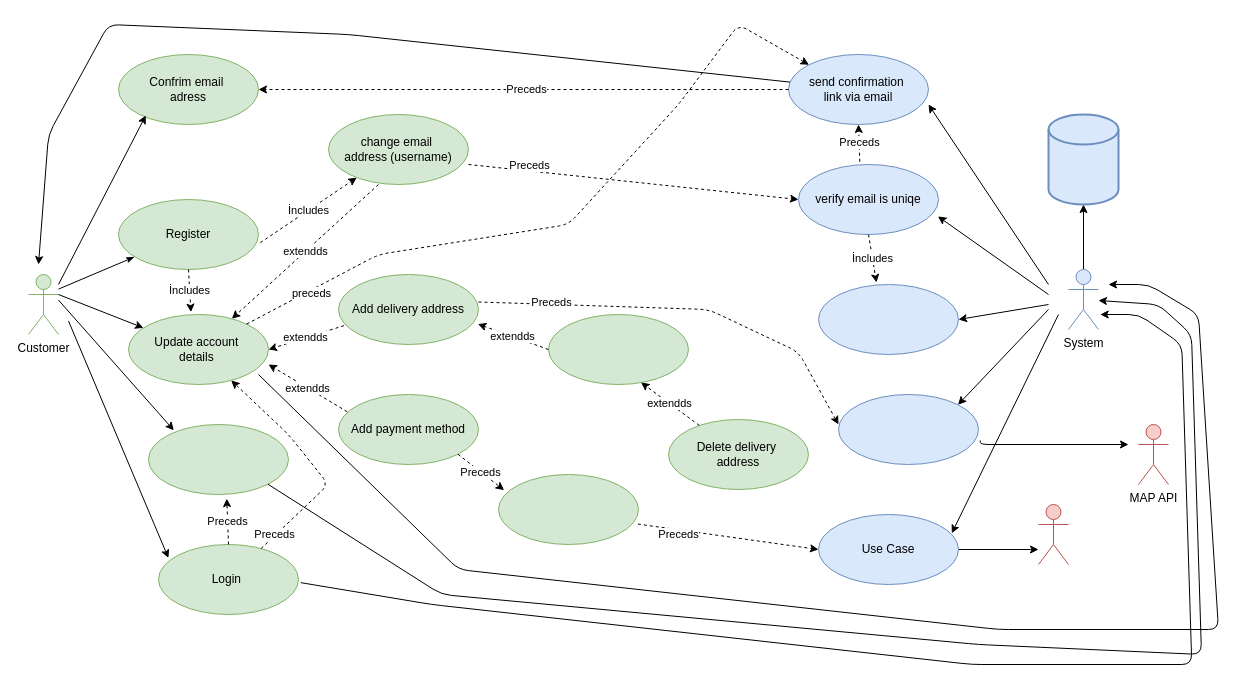
This 1244x690 diagram has some shape labels left out. Here are the shapes that lost their labels. From the top down, the centre of each, then its label:
At (x=1083, y=159): "Customer database".
At (x=888, y=319): "Check for existing account".
At (x=618, y=349): "Update delivery".
At (x=908, y=429): "Verify credit card details".
At (x=218, y=459): "View account".
At (x=568, y=509): "Enter payment method".
At (x=1053, y=534): "Third_party payment verification service".
